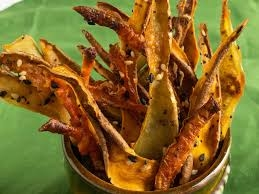kitchen_waste: (53, 60, 160, 191), (3, 41, 97, 158), (139, 10, 181, 163), (211, 3, 249, 152)
